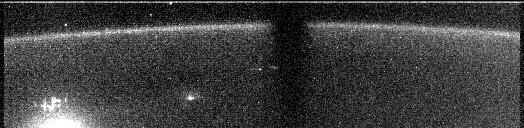positive: (36, 94, 70, 116)
